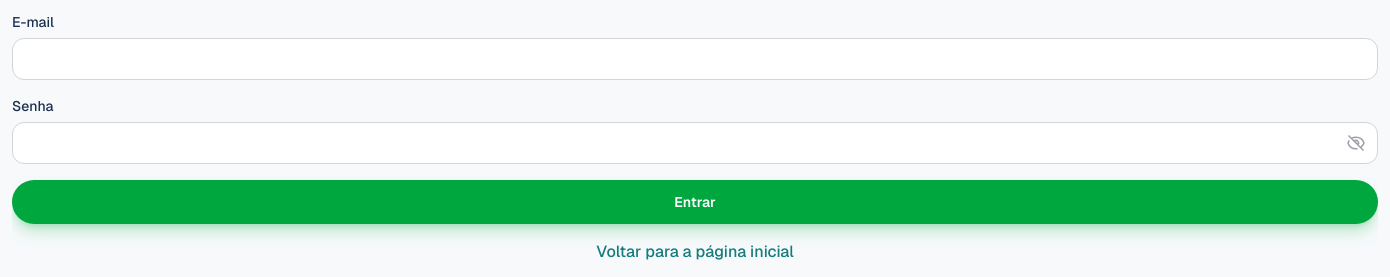
it: LoginForm › mostra estado de carregamento durante o submit
Type "gestor@caps.local" into the field labelled "E-mail" at (695, 59), box x1=12 y1=38 x2=1378 y2=80
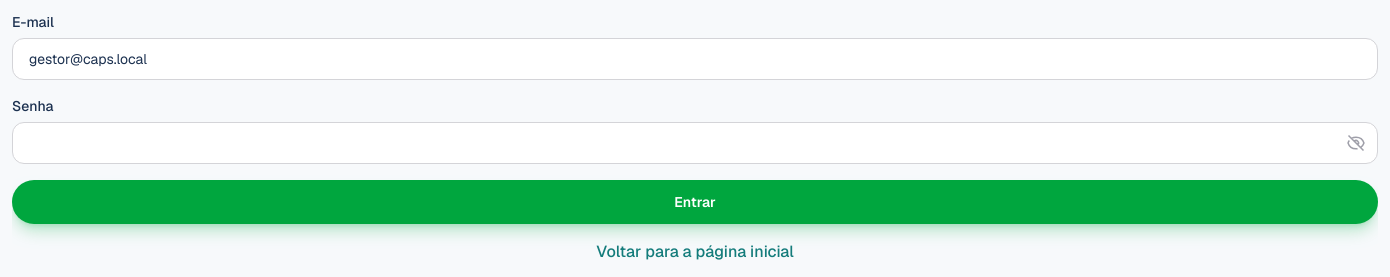
Type "senha-segura" into the password field labelled "Senha" at (695, 143), box x1=12 y1=122 x2=1378 y2=164
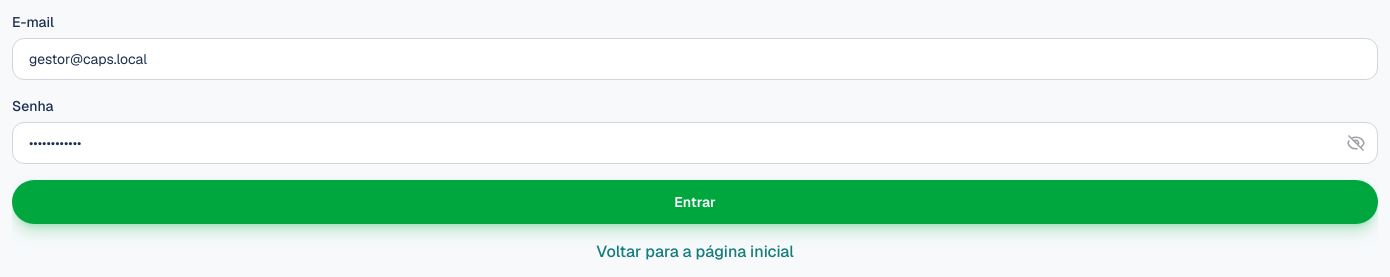
Click the button "Entrar" at (695, 202), box x1=12 y1=180 x2=1378 y2=224
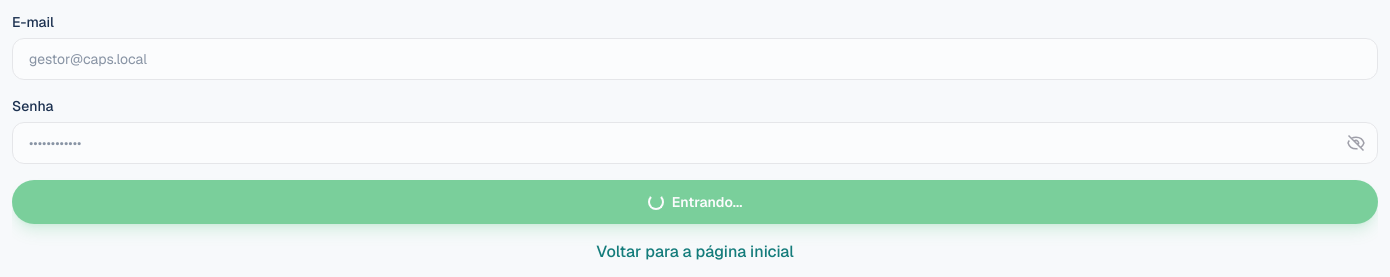
Check: the button "Entrando..." is disabled, box x1=12 y1=180 x2=1378 y2=224
Check: the field labelled "E-mail" is disabled, box x1=12 y1=38 x2=1378 y2=80
Check: the password field labelled "Senha" is disabled, box x1=12 y1=122 x2=1378 y2=164
